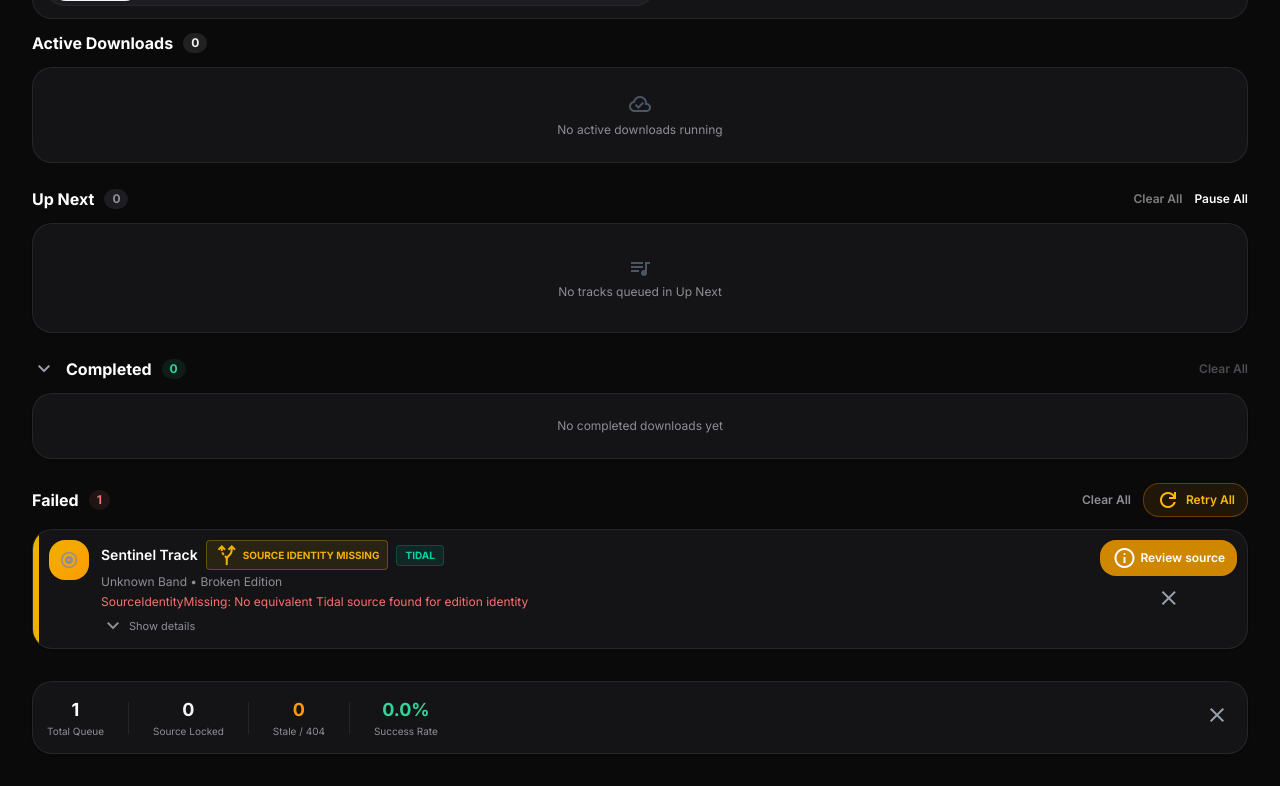
Scenario: DownloadsView.vue › marks a terminal sentinel retry count instead of showing 99 attempts
(page scrolled)
Step 1. Click the button "Review source" → click(1169, 558), box x1=1100 y1=540 x2=1237 y2=576
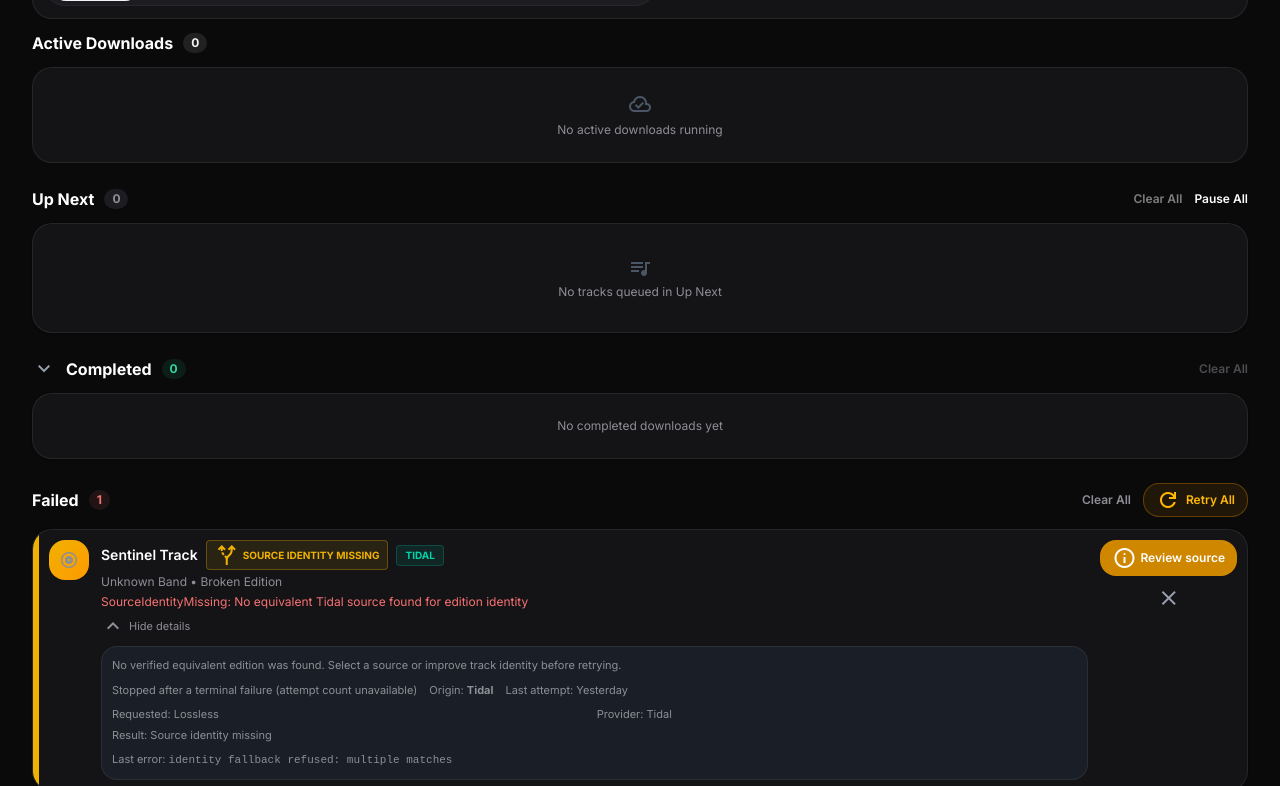
Expected: the text "Stopped after a terminal failure" is shown, x1=112 y1=682 x2=417 y2=696
